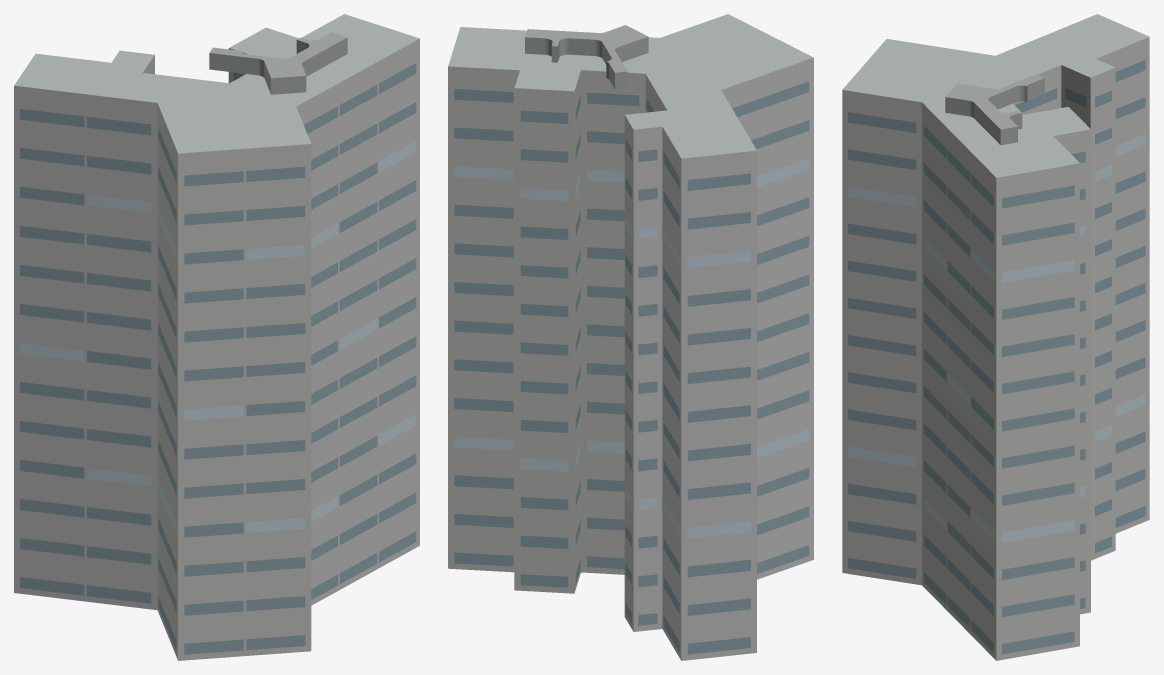
The model's file is fallback-shinbanpo-xi-106.glb.
3 views of the same model, side by side, from view 1: azimuth 30°, elevation 25°; view 2: azimuth 150°, elevation 25°; view 3: azimuth 270°, elevation 25° (orthographic). The views are drawn at different scales.
Visible parts, largest first — view 1: fallback-shinbanpo-xi-106; view 2: fallback-shinbanpo-xi-106; view 3: fallback-shinbanpo-xi-106.
Boxes of the visible parts, x1,y1,x2,y2 form: fallback-shinbanpo-xi-106: (14,14,419,660); fallback-shinbanpo-xi-106: (448,14,813,660); fallback-shinbanpo-xi-106: (842,14,1149,660).
Size of the model in its own units: 53.56 by 76 by 42.48.
